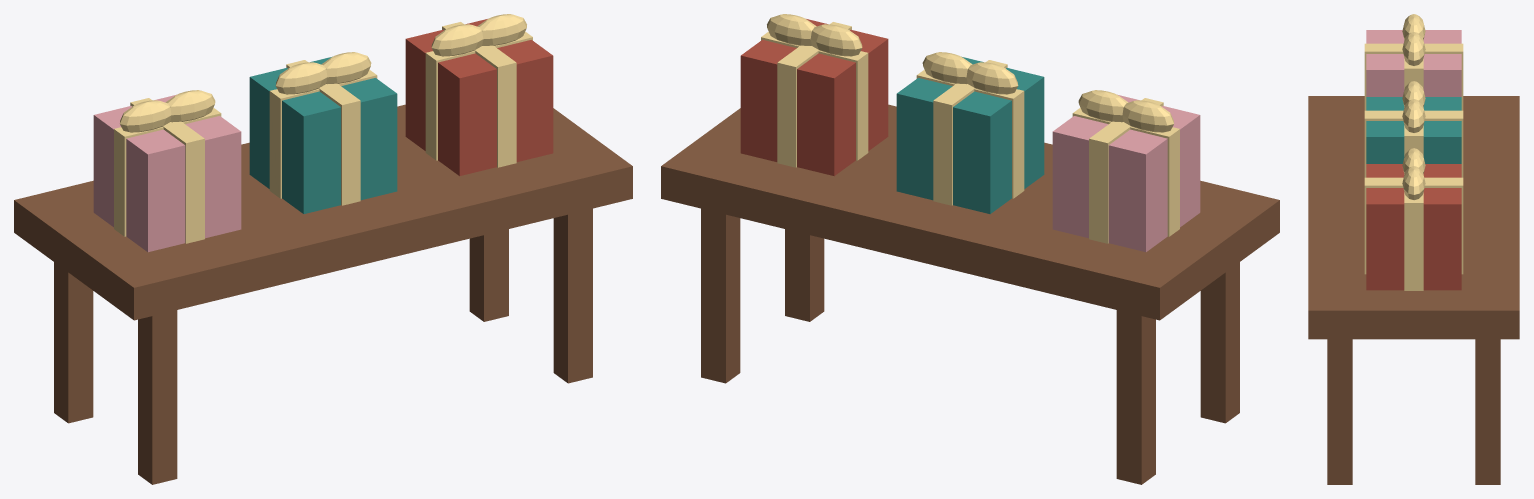
Rendered from gift_table.glb.
The picture shows the model from 3 angles, left to right: view 1: azimuth 30°, elevation 25°; view 2: azimuth 150°, elevation 25°; view 3: azimuth 270°, elevation 25°; orthographic projection. The views are drawn at different scales.
Visible parts, largest first — view 1: tabletop, gift, gift.002, gift.001, leg, leg.002, leg.001, leg.003, ribbon_y.002, ribbon_y.001, ribbon_y, ribbon_x (+8 smaller); view 2: tabletop, gift, gift.002, gift.001, leg.001, leg.003, leg, leg.002, ribbon_y.002, ribbon_y.001, ribbon_y, ribbon_x (+8 smaller); view 3: tabletop, gift.002, gift, gift.001, leg.002, leg.003, ribbon_x.002, ribbon_y.002, ribbon_y, ribbon_y.001, bow.005, bow.001 (+6 smaller).
Part boxes in pixels (x1,y1,x2,y2): tabletop: (14, 104, 632, 320); gift: (93, 94, 241, 252); gift.002: (405, 19, 553, 176); gift.001: (249, 56, 397, 213); leg: (138, 310, 177, 484); leg.002: (553, 208, 592, 383); leg.001: (54, 262, 93, 423); leg.003: (469, 229, 508, 321); ribbon_y.002: (442, 22, 516, 167); ribbon_y.001: (286, 60, 360, 205); ribbon_y: (130, 98, 204, 243); ribbon_x: (114, 107, 221, 236); tabletop: (661, 104, 1279, 320); gift: (1052, 94, 1200, 252); gift.002: (740, 19, 888, 176); gift.001: (896, 56, 1044, 213); leg.001: (1116, 310, 1155, 484); leg.003: (701, 208, 740, 383); leg: (1200, 262, 1239, 423); leg.002: (785, 229, 824, 321); ribbon_y.002: (777, 22, 851, 167); ribbon_y.001: (933, 60, 1007, 205); ribbon_y: (1089, 98, 1163, 243); ribbon_x: (1072, 107, 1179, 236); tabletop: (1308, 96, 1519, 339); gift.002: (1366, 164, 1461, 290); gift: (1366, 30, 1461, 96); gift.001: (1366, 97, 1461, 163); leg.002: (1327, 339, 1352, 484); leg.003: (1475, 339, 1500, 484); ribbon_x.002: (1404, 192, 1423, 290); ribbon_y.002: (1364, 177, 1463, 274); ribbon_y: (1364, 43, 1463, 110); ribbon_y.001: (1364, 110, 1463, 177); bow.005: (1402, 166, 1425, 200); bow.001: (1402, 32, 1425, 65).
Bounding box in the file's own units: 2.4 × 1.55 × 1.
